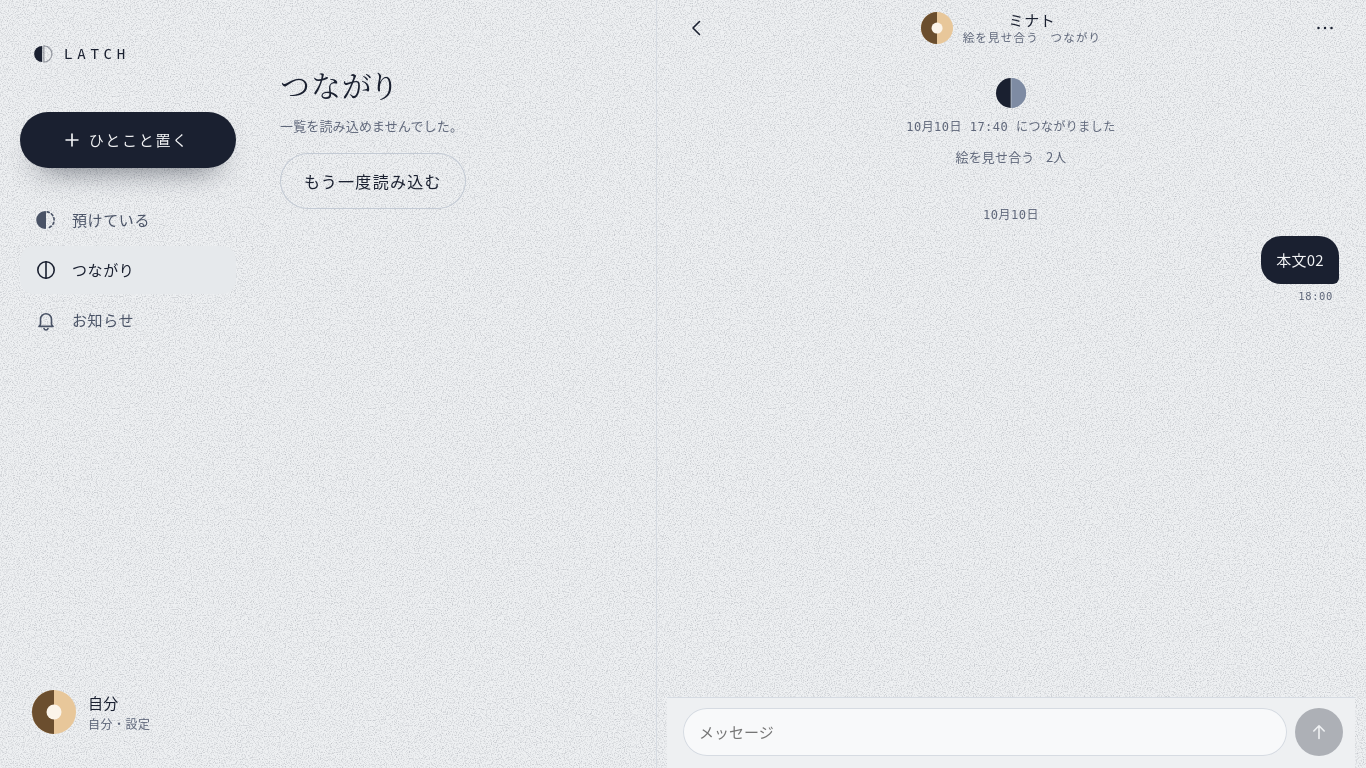
Chat の送信・受信・既読 › WebSocketで同じclient_idが先に届いても吹き出しは1つ
Check: the text "本文02" is shown, box [1261,236,1339,284]
In the text box labelled "メッセージ": [985, 732] box [683,708,1287,756], type "やあ"
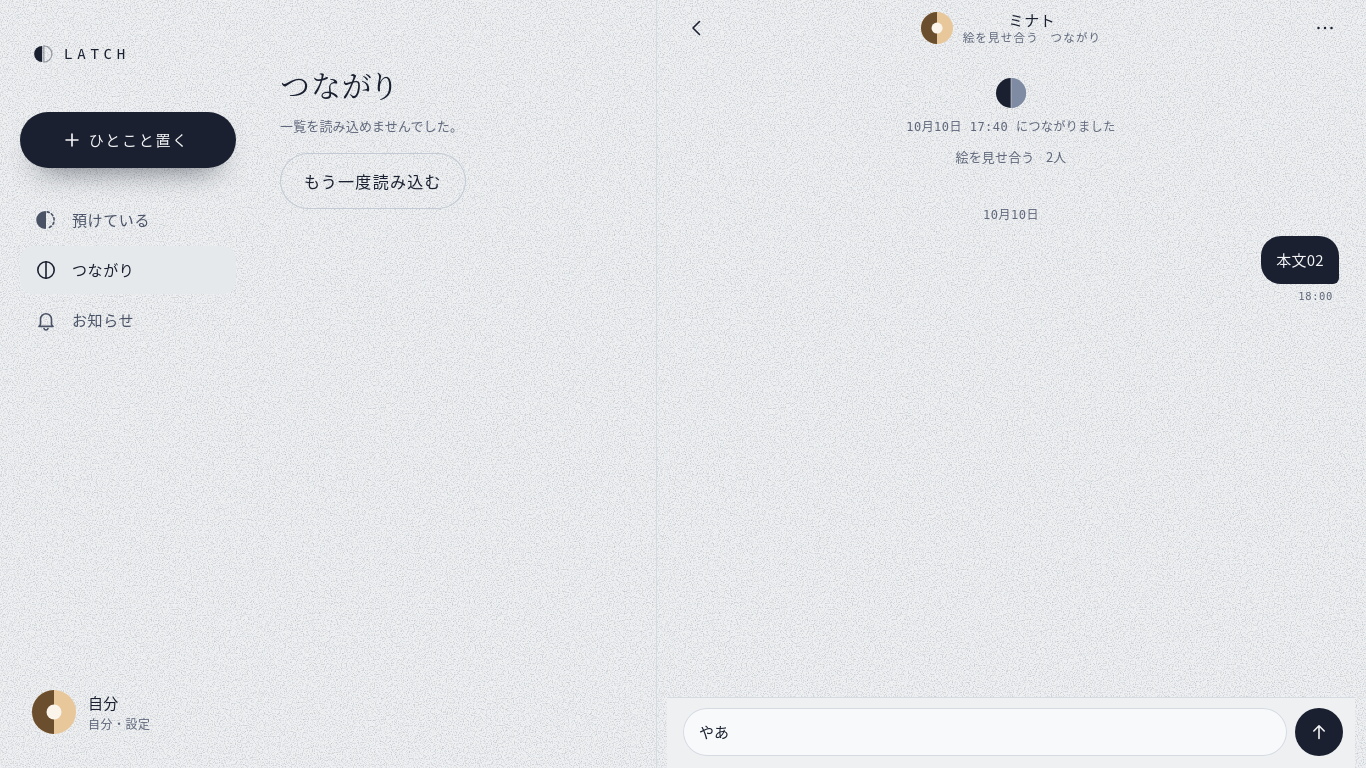
Click the button named "送る": [1319, 732] box [1295,708,1343,756]
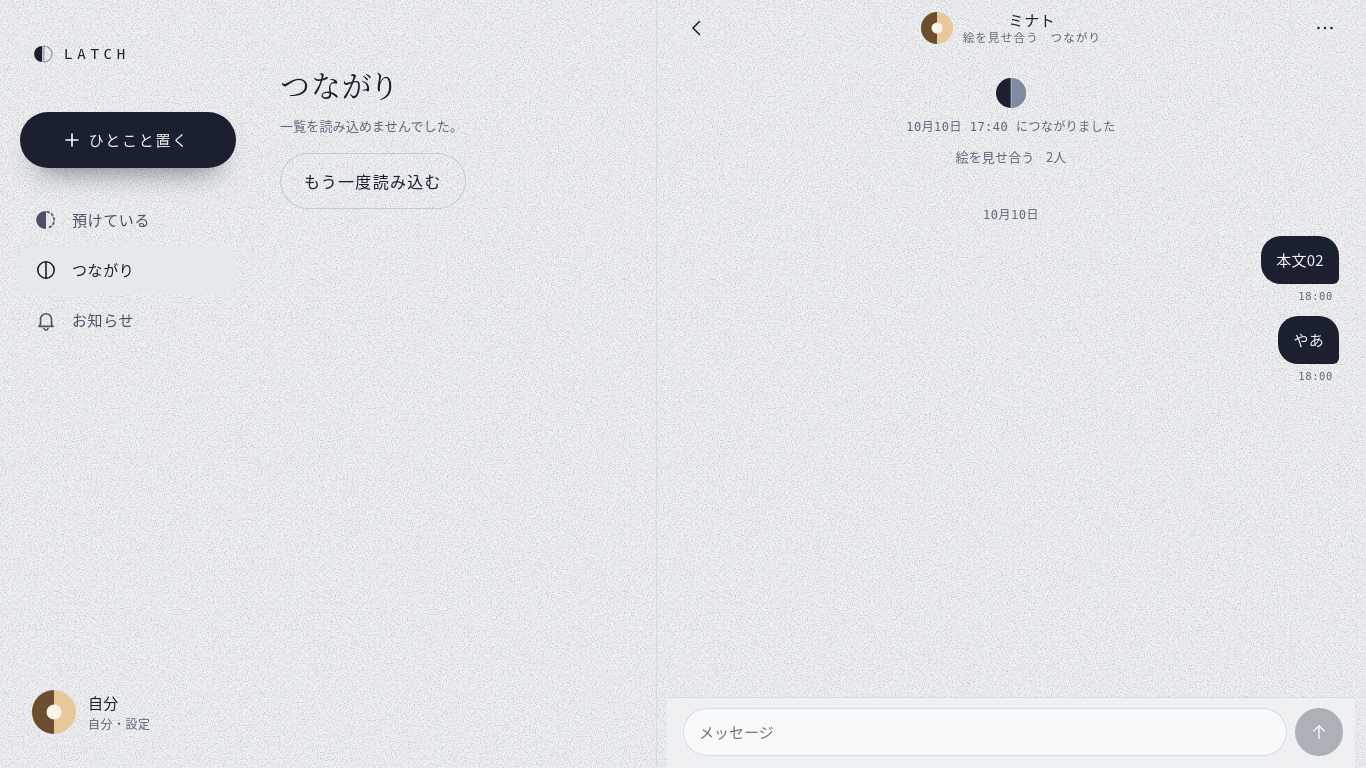
Check: the text "やあ" is shown once, box [1278,316,1339,364]
